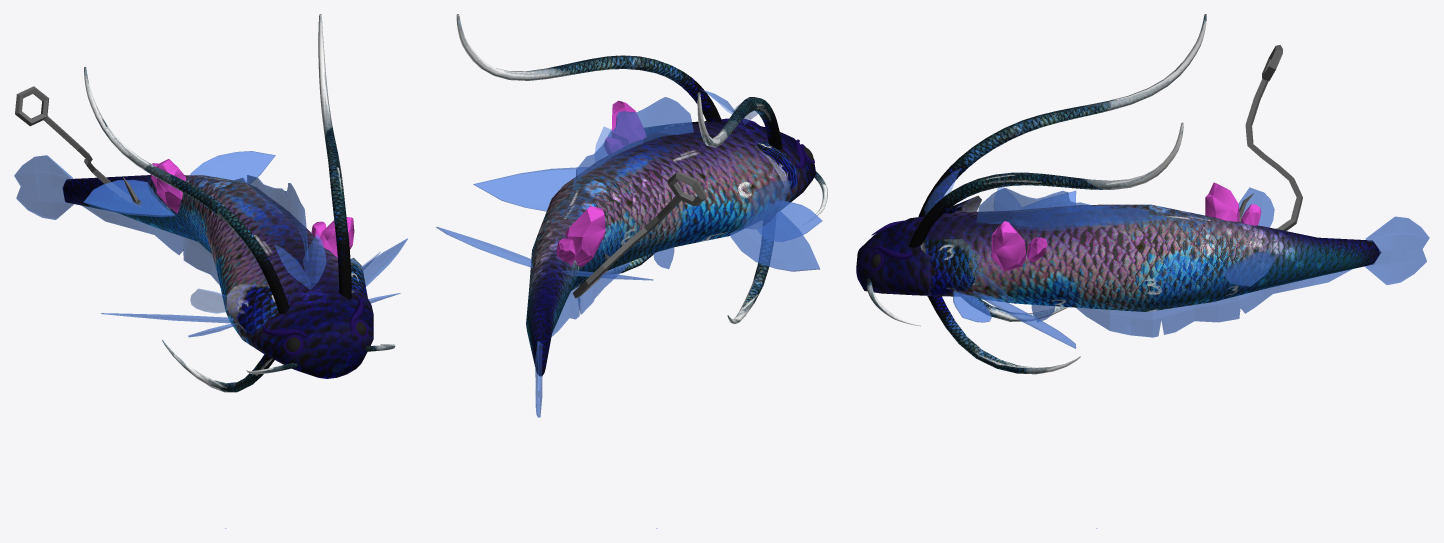
File: 1772730137491_som.glb
3 views of the same model, side by side, from view 1: azimuth 30°, elevation 25°; view 2: azimuth 150°, elevation 25°; view 3: azimuth 270°, elevation 25° (orthographic). The views are drawn at different scales.
Parts seen in each view (by area): view 1: Circle, BezierCurve.006, Cube.008, Cube.009, Cube.006, Cube.010, Cube.014, Cube.011, Object_2.001, Plane.001, Cube.013, Cube.004 (+4 smaller); view 2: Circle, BezierCurve.006, Cube.003, Cube.014, Cube.004, Cube.001, Object_2.001, Cube.013, Cube.006, Cube.011, Object_2.003, Cube.010 (+2 smaller); view 3: Circle, BezierCurve.006, Cube.014, Cube.006, Cube.008, Cube.011, Object_2.003, Cube.010, Cube.004, Object_2.001, Cube.002, Cube.009.
Boxes of the visible parts, left/top/right/bottom form: Circle: left=62, top=175, right=373, bottom=378; BezierCurve.006: left=84, top=14, right=395, bottom=392; Cube.008: left=14, top=155, right=73, bottom=219; Cube.009: left=83, top=179, right=175, bottom=217; Cube.006: left=82, top=205, right=219, bottom=285; Cube.010: left=190, top=151, right=275, bottom=183; Cube.014: left=234, top=175, right=308, bottom=261; Cube.011: left=43, top=116, right=141, bottom=206; Object_2.001: left=156, top=159, right=186, bottom=213; Plane.001: left=302, top=234, right=326, bottom=288; Cube.013: left=190, top=288, right=226, bottom=313; Cube.004: left=362, top=238, right=407, bottom=286; Circle: left=526, top=121, right=816, bottom=376; BezierCurve.006: left=456, top=14, right=827, bottom=324; Cube.003: left=730, top=202, right=819, bottom=271; Cube.014: left=554, top=97, right=693, bottom=246; Cube.004: left=473, top=167, right=588, bottom=211; Cube.001: left=757, top=200, right=822, bottom=241; Object_2.001: left=565, top=206, right=605, bottom=267; Cube.013: left=742, top=180, right=792, bottom=229; Cube.006: left=551, top=261, right=631, bottom=336; Cube.011: left=573, top=196, right=680, bottom=298; Object_2.003: left=611, top=100, right=646, bottom=146; Cube.010: left=436, top=226, right=533, bottom=267; Circle: left=856, top=195, right=1381, bottom=311; BezierCurve.006: left=866, top=14, right=1206, bottom=374; Cube.014: left=976, top=188, right=1246, bottom=230; Cube.006: left=1076, top=269, right=1352, bottom=337; Cube.008: left=1364, top=216, right=1429, bottom=284; Cube.011: left=1239, top=78, right=1302, bottom=230; Object_2.003: left=991, top=221, right=1025, bottom=271; Cube.010: left=1222, top=252, right=1274, bottom=286; Cube.004: left=972, top=291, right=1076, bottom=348; Object_2.001: left=1205, top=182, right=1239, bottom=221; Cube.002: left=953, top=291, right=991, bottom=322; Cube.009: left=1238, top=187, right=1274, bottom=227.
Bounding box in the file's own units: 3.29 × 4.63 × 5.06.
Materials: 10 (2 with a texture image).
